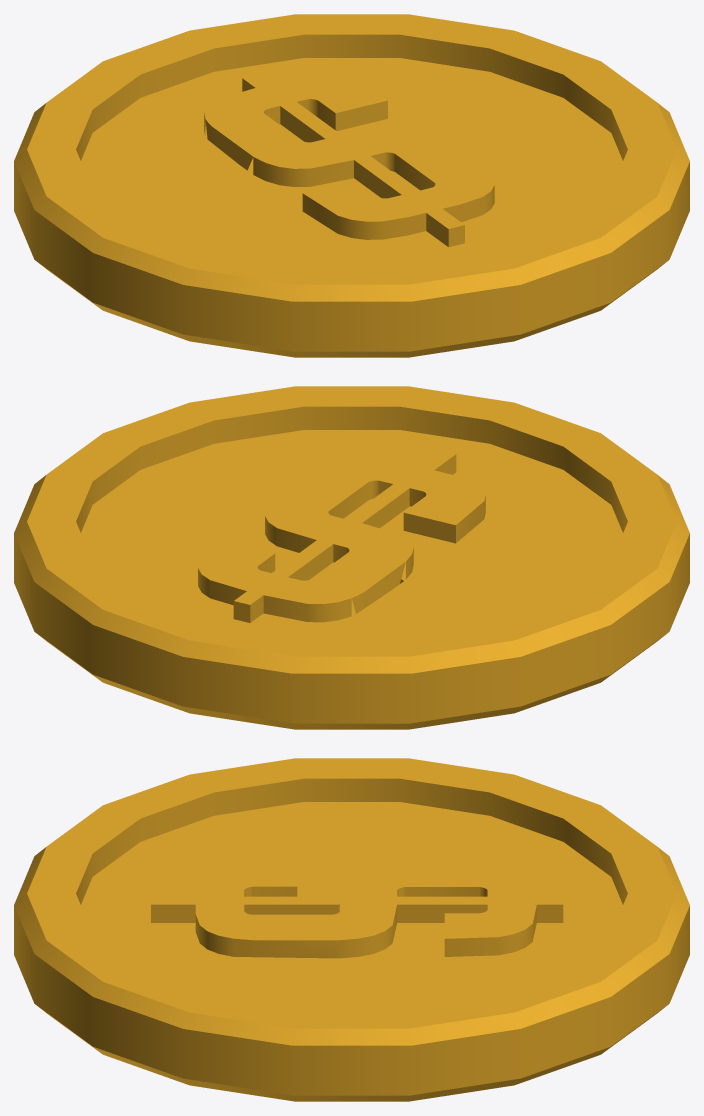
The model's file is coin_new.glb.
3 views of the same model, one above another, from view 1: azimuth 30°, elevation 25°; view 2: azimuth 150°, elevation 25°; view 3: azimuth 270°, elevation 25° (orthographic).
Parts seen in each view (by area): view 1: Coin_New; view 2: Coin_New; view 3: Coin_New.
Boxes of the visible parts, bbox=[...] form: Coin_New: bbox=[14, 14, 689, 357]; Coin_New: bbox=[14, 386, 689, 729]; Coin_New: bbox=[14, 758, 689, 1101].
Size of the model in its own units: 1.97 by 0.238 by 2.
